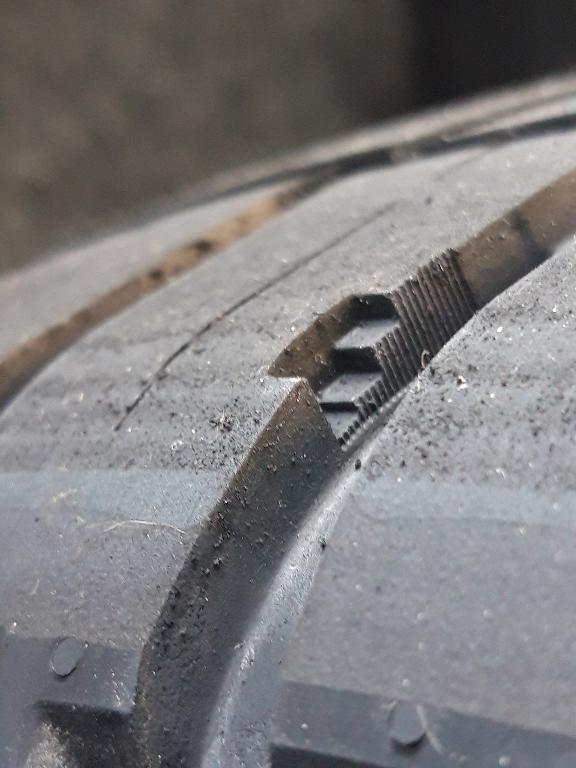temoin:75: (263, 267, 450, 456)
